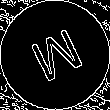M_SE: (23, 22, 87, 88)
